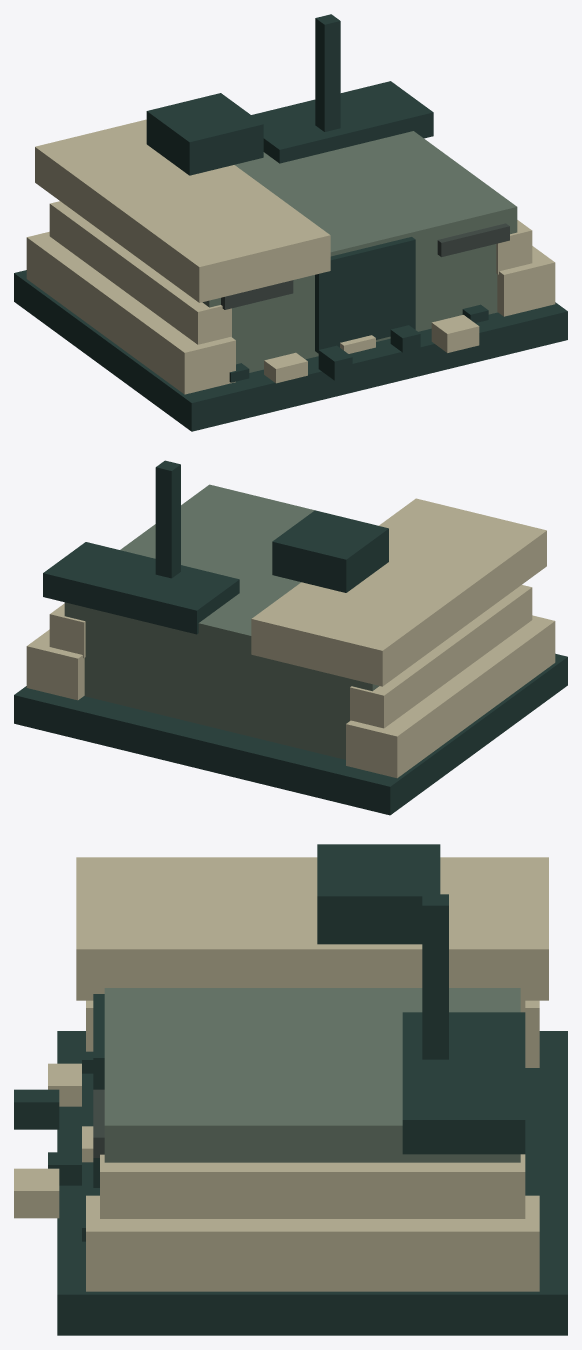
The model's file is bunker-breached.glb.
3 views of the same model, one above another, from view 1: azimuth 30°, elevation 25°; view 2: azimuth 150°, elevation 25°; view 3: azimuth 270°, elevation 25° (orthographic). The views are drawn at different scales.
Parts seen in each view (by area): view 1: bunker-breached; view 2: bunker-breached; view 3: bunker-breached.
Part boxes in pixels (x1,y1,x2,y2): bunker-breached: (14,14,567,431); bunker-breached: (14,460,567,815); bunker-breached: (14,844,567,1335).
Bounding box in the file's own units: 3.3 × 2.1 × 2.93.
